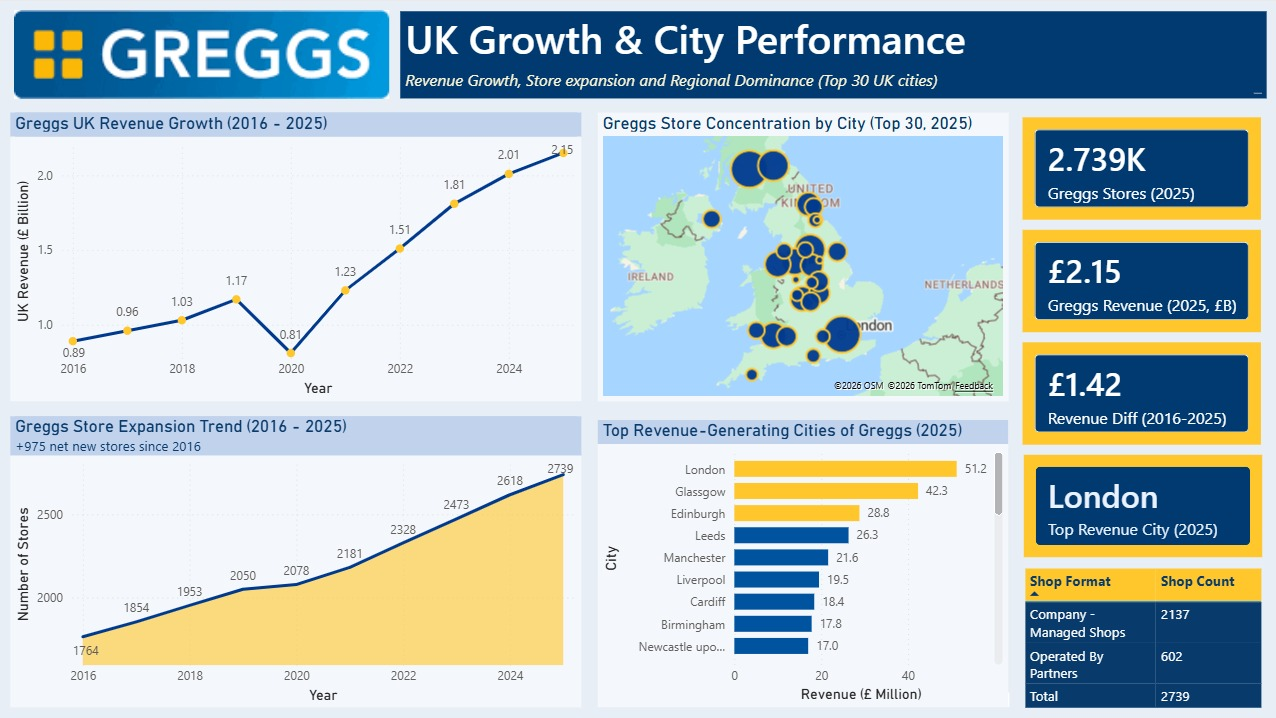

The dashboard page shown, as its layout file describes it:
{"tool":"powerbi","page":{"name":"Page 2","canvas":[1280,720],"ordinal":1},"visuals":[{"type":"shape","box":[0,0,1280,720],"z":0},{"type":"image","box":[15,10,375,88.8],"z":1000},{"type":"textbox","title":"UK Growth & City Performance","box":[401.2,11.2,866.2,87.5],"z":2000},{"type":"lineChart","title":"Greggs UK Revenue Growth (2016 - 2025)","fields":{"Category":["Table17.Year"],"Y":["Sum(Table17.Revenue (in Billion) (UK Pounds))"]},"box":[11.2,112.5,571.2,288.8],"z":3000},{"type":"slicer","fields":{"Values":["Table17.Company Name"]},"box":[997.2,692.4,12.8,14],"z":4000},{"type":"cardVisual","fields":{"Data":["Table1.Greggs Revenue (2025, £B)"]},"box":[1018.8,225,248.8,112.5],"z":5000},{"type":"cardVisual","fields":{"Data":["Table17.Greggs Stores (2025)"]},"box":[1018.8,112.5,248.8,112],"z":6000},{"type":"cardVisual","fields":{"Data":["Table17.Greggs Revenue Growth % (2016→2025)"]},"box":[1018.8,337.5,248.8,112.5],"z":7000},{"type":"areaChart","title":"Greggs Store Expansion Trend (2016 - 2025)","fields":{"Category":["Table17.Year"],"Y":["Sum(Table17.Store Count)"]},"box":[11.2,416.2,571.2,291.2],"z":8000},{"type":"azureMap","title":"Greggs Store Concentration by City (Top 30, 2025)","fields":{"Size":["Sum(Table28.Estimated Store Count)"],"X":["Table28.Longitude"],"Y":["Table28.Latitude"]},"box":[598.8,112.5,410,288.8],"z":9000},{"type":"clusteredBarChart","title":"Top Revenue-Generating Cities of Greggs (2025)","fields":{"Category":["Table28.City"],"Y":["Sum(Table28.Estimated Revenue 2025 (£ millions))"]},"box":[598.8,420,410,287.5],"z":10000},{"type":"tableEx","title":"Store Ownership (2025)","fields":{"Values":["Table8.Shop Format","Table8.Shop Count"]},"box":[1020,563.8,247.5,156.2],"z":11000},{"type":"cardVisual","fields":{"Data":["Table28.Top Revenue City (2025)"]},"box":[1020,450,248.8,112.5],"z":12000}]}

Visuals, with their boxes in screenshot pixels (x1, y1, x2, y2), scaled from the page's 1280x720 canvas onto the 1276x718 screenshot:
shape: [0, 0, 1275, 717]
image: [15, 10, 389, 99]
"UK Growth & City Performance" textbox: [400, 11, 1263, 98]
"Greggs UK Revenue Growth (2016 - 2025)" lineChart: [11, 112, 581, 400]
slicer - Table17.Company Name: [994, 690, 1007, 704]
cardVisual - Table1.Greggs Revenue (2025, £B): [1016, 224, 1264, 337]
cardVisual - Table17.Greggs Stores (2025): [1016, 112, 1264, 224]
cardVisual - Table17.Greggs Revenue Growth % (2016→2025): [1016, 337, 1264, 449]
"Greggs Store Expansion Trend (2016 - 2025)" areaChart: [11, 415, 581, 705]
"Greggs Store Concentration by City (Top 30, 2025)" azureMap: [597, 112, 1006, 400]
"Top Revenue-Generating Cities of Greggs (2025)" clusteredBarChart: [597, 419, 1006, 706]
"Store Ownership (2025)" tableEx: [1017, 562, 1264, 717]
cardVisual - Table28.Top Revenue City (2025): [1017, 449, 1265, 561]
